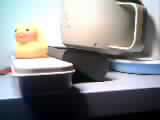duck: (11, 16, 52, 63)
